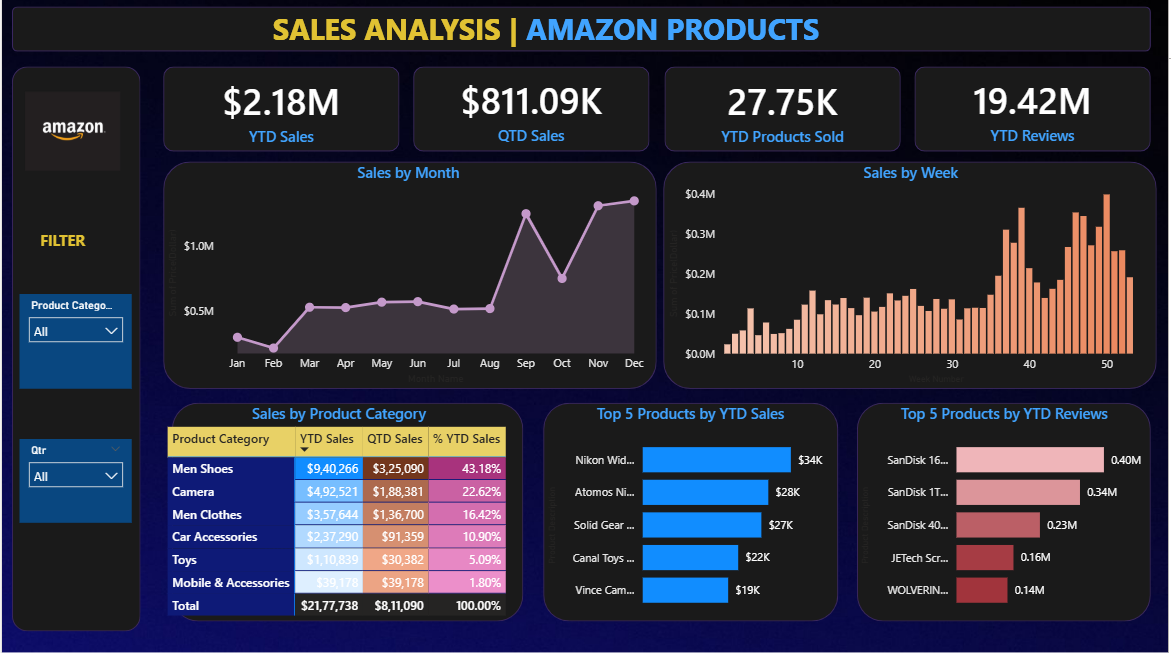

Layout of this report page (visuals, bound fields, positions):
{"tool":"powerbi","page":{"name":"Page 1","canvas":[1280,720],"ordinal":0},"visuals":[{"type":"shape","box":[11,8.2,1250.1,49.4],"z":0},{"type":"textbox","box":[292,4.8,988.1,53.1],"z":1000},{"type":"shape","box":[10.9,73.6,141.2,620.1],"z":2000},{"type":"shape","box":[177,74.1,259.3,93.3],"z":3000},{"type":"card","fields":{"Values":["Amazon_Data.YTD Sales"]},"box":[177.3,74.8,259.4,94.1],"z":4000,"group":"g1"},{"type":"shape","box":[451.9,74.1,259.3,93.3],"z":4000},{"type":"shape","box":[726.8,74.1,259.3,93.3],"z":5000},{"type":"shape","box":[1001.7,74.1,259.3,93.3],"z":6000},{"type":"group","id":"g1","title":"Group 1","box":[177.3,73.6,1084.6,95.3],"z":7000},{"type":"card","fields":{"Values":["Amazon_Data.QTD Sales"]},"box":[452.4,73.6,259.4,94.1],"z":8000,"group":"g1"},{"type":"shape","box":[177.3,178.6,541.7,249.7],"z":8000},{"type":"card","fields":{"Values":["Amazon_Data.YTD Reviews"]},"box":[1002.5,73.6,259.4,94.1],"z":9000,"group":"g1"},{"type":"areaChart","title":"Sales by Month","fields":{"Category":["Date Table.Month Name"],"Y":["Sum(Amazon_Data.Price(Dollar))"]},"box":[177.3,178.6,538.1,249.7],"z":9000},{"type":"card","fields":{"Values":["Amazon_Data.YTD Products Sold"]},"box":[727.4,74.8,259.4,94.1],"z":10000,"group":"g1"},{"type":"shape","box":[726.3,178.6,541.7,249.7],"z":10000},{"type":"columnChart","title":"Sales by Week","fields":{"Category":["Date Table.Week Number"],"Y":["Sum(Amazon_Data.Price(Dollar))"]},"box":[727.5,178.6,540.5,248.5],"z":11000},{"type":"shape","box":[186.6,443.2,385.6,240.1],"z":12000},{"type":"shape","box":[1151.3,660,129,45.3],"z":13000},{"type":"pivotTable","title":"Sales by Product Category","fields":{"Rows":["Amazon_Data.Product Category"],"Values":["Amazon_Data.YTD Sales1","Amazon_Data.QTD Sales","Amazon_Data.YTD Sales"]},"box":[177,443.2,385.6,240.1],"z":14000},{"type":"shape","box":[938.6,443.2,322.5,240.1],"z":15000},{"type":"shape","box":[594.2,443.2,323.8,240.1],"z":16000},{"type":"clusteredBarChart","title":"Top 5 Products by YTD Sales","fields":{"Category":["Amazon_Data.Product Description"],"Y":["Amazon_Data.YTD Sales"]},"box":[593.6,442.8,323.3,240.1],"z":17000},{"type":"clusteredBarChart","title":"Top 5 Products by YTD Reviews","fields":{"Category":["Amazon_Data.Product Description"],"Y":["Amazon_Data.YTD Reviews"]},"box":[938.6,442.8,323.3,240.1],"z":18000},{"type":"slicer","fields":{"Values":["Amazon_Data.Product Category"]},"box":[19.2,323.8,123.5,104.3],"z":19000},{"type":"slicer","fields":{"Values":["Date Table.Qtr"]},"box":[19.2,483,123.5,91.9],"z":20000},{"type":"image","box":[9.6,74.1,133.1,138.6],"z":21000},{"type":"textbox","box":[292.3,5.5,988,52.1],"z":22000},{"type":"textbox","box":[37,248.4,76.8,54.9],"z":22001}]}

Visuals, with their boxes in screenshot pixels (x1, y1, x2, y2), scaled from the page's 1280x720 canvas onto the 1171x653 screenshot:
shape: box(10, 7, 1154, 52)
textbox: box(267, 4, 1170, 53)
shape: box(10, 67, 139, 629)
shape: box(162, 67, 399, 152)
card - Amazon_Data.YTD Sales: box(162, 68, 400, 153)
shape: box(413, 67, 651, 152)
shape: box(665, 67, 902, 152)
shape: box(916, 67, 1154, 152)
"Group 1" group: box(162, 67, 1154, 153)
card - Amazon_Data.QTD Sales: box(414, 67, 651, 152)
shape: box(162, 162, 658, 388)
card - Amazon_Data.YTD Reviews: box(917, 67, 1154, 152)
"Sales by Month" areaChart: box(162, 162, 654, 388)
card - Amazon_Data.YTD Products Sold: box(665, 68, 903, 153)
shape: box(664, 162, 1160, 388)
"Sales by Week" columnChart: box(666, 162, 1160, 387)
shape: box(171, 402, 523, 620)
shape: box(1053, 599, 1170, 640)
"Sales by Product Category" pivotTable: box(162, 402, 515, 620)
shape: box(859, 402, 1154, 620)
shape: box(544, 402, 840, 620)
"Top 5 Products by YTD Sales" clusteredBarChart: box(543, 402, 839, 619)
"Top 5 Products by YTD Reviews" clusteredBarChart: box(859, 402, 1154, 619)
slicer - Amazon_Data.Product Category: box(18, 294, 131, 388)
slicer - Date Table.Qtr: box(18, 438, 131, 521)
image: box(9, 67, 131, 193)
textbox: box(267, 5, 1170, 52)
textbox: box(34, 225, 104, 275)
